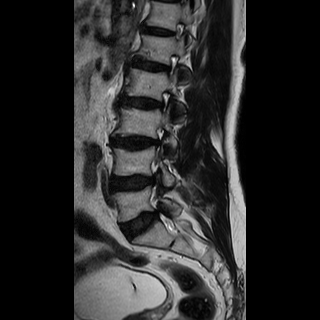LFS0: (156, 85, 181, 118), (161, 49, 181, 81)
